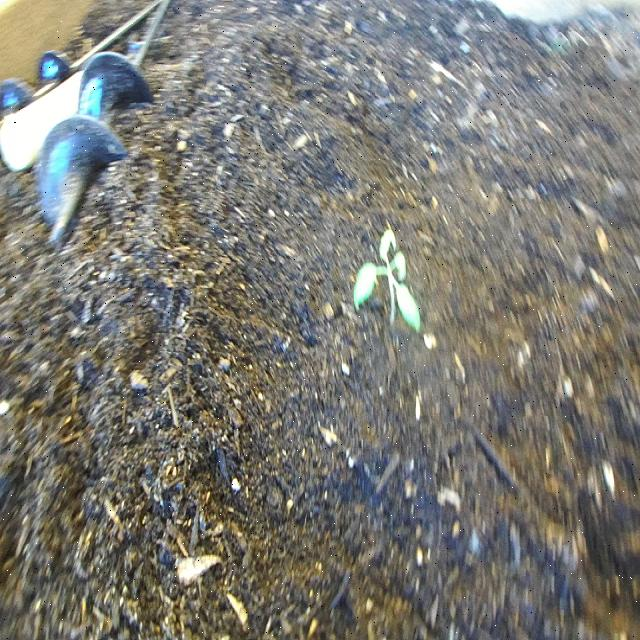Healthy: (350, 222, 425, 344)
